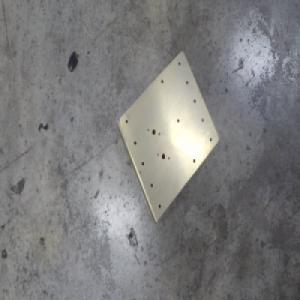MetalSheet: (115, 48, 219, 225)
